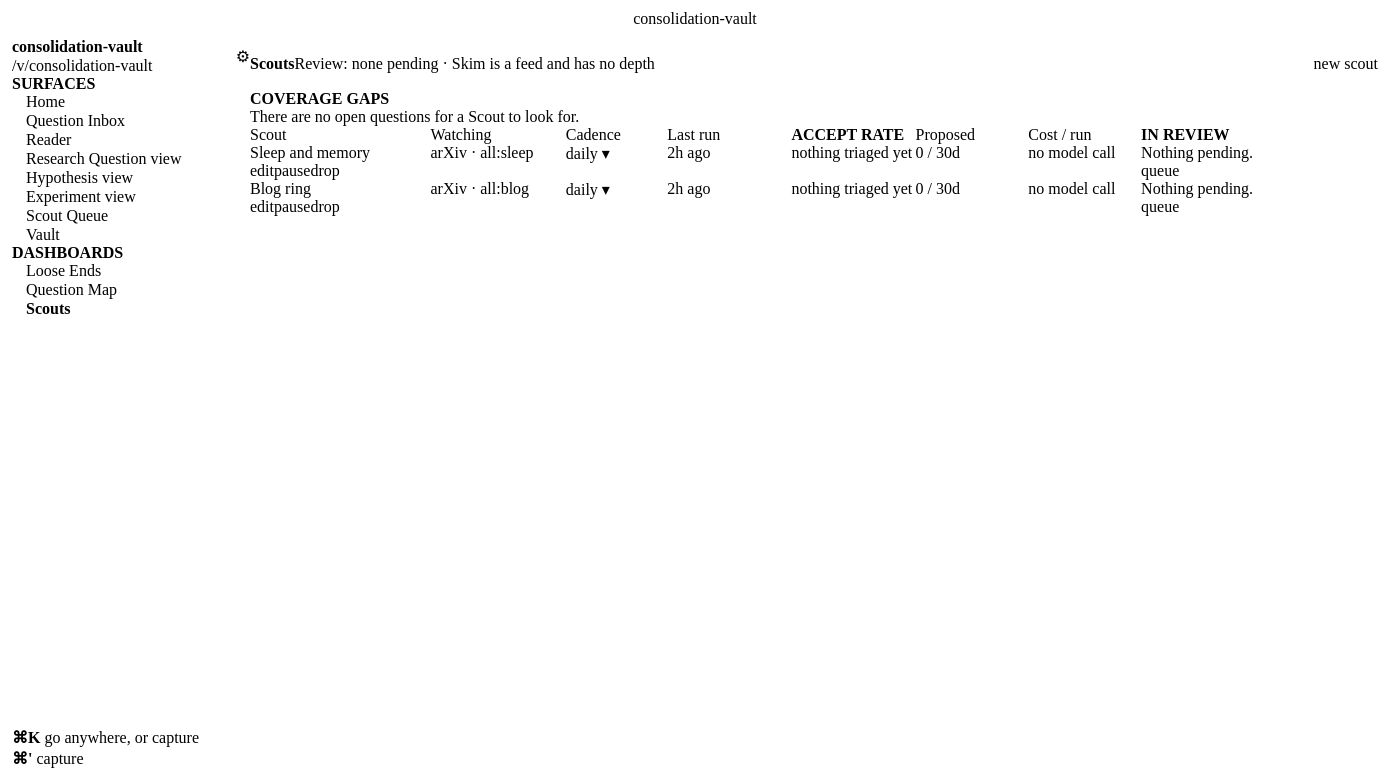
Test case: Scouts screen — drop › says so on the row, in the alert voice, when the core refuses a drop, and leaves the row as it was
Click the button with aria-label "Sleep and memory: drop" at (325, 171), box x1=310 y1=162 x2=340 y2=180
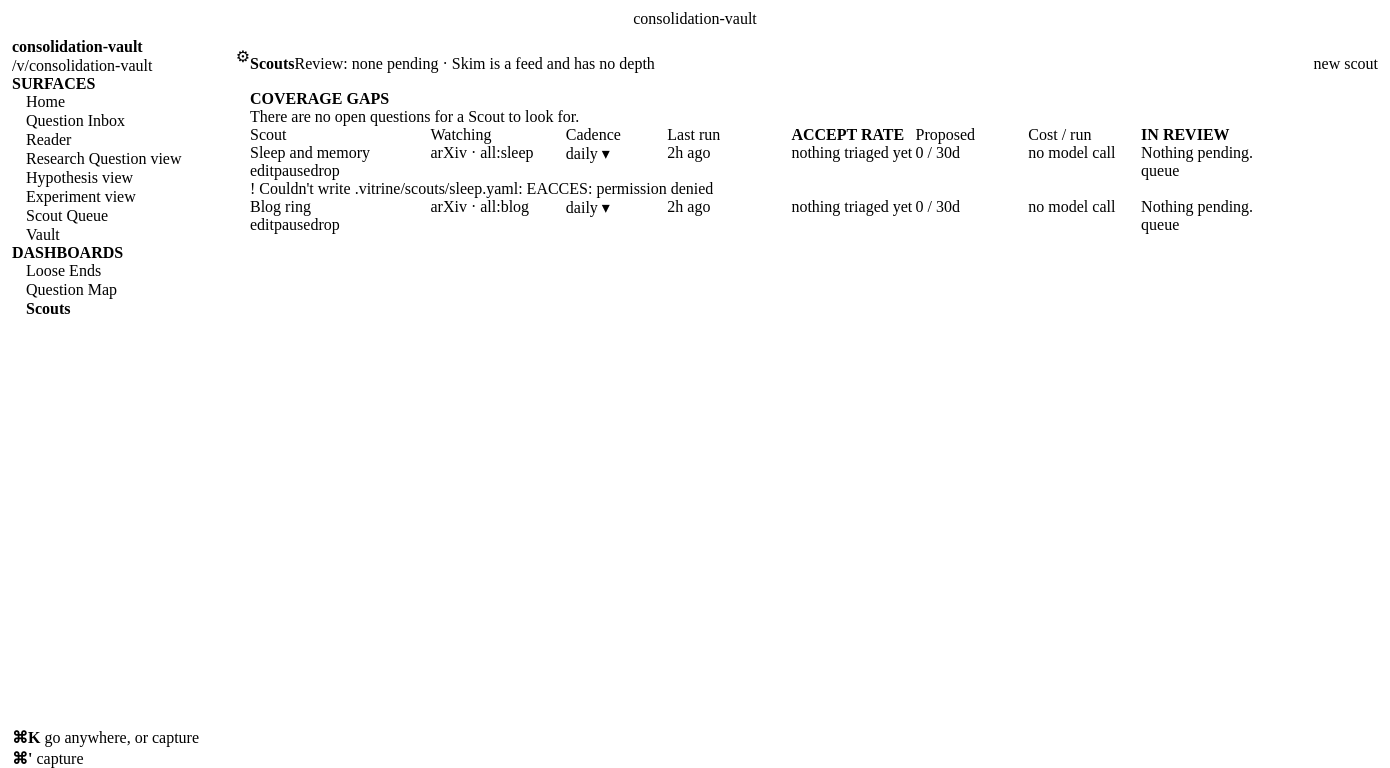
expect the message shows "Couldn't write .vitrine/scouts/sleep.yaml: EACCES: permission denied": met, box x1=259 y1=180 x2=713 y2=197
